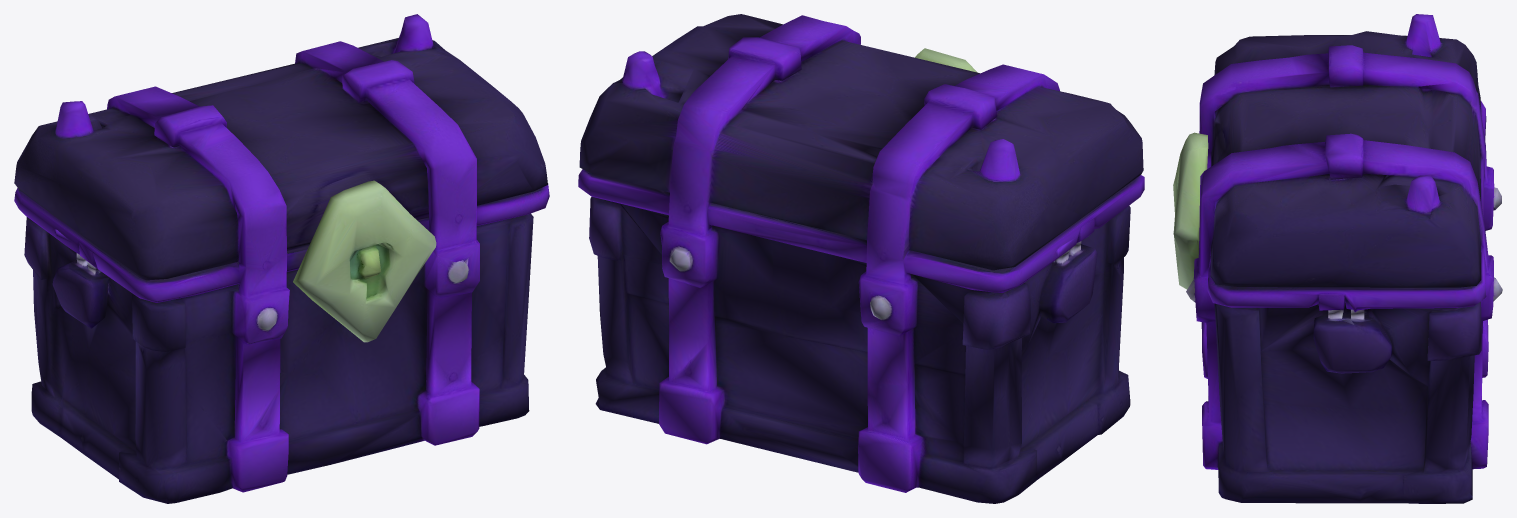
File: utility_cursed_chest_3000.glb
3 renders of one model, left to right at view 1: azimuth 30°, elevation 25°; view 2: azimuth 150°, elevation 25°; view 3: azimuth 270°, elevation 25°, orthographic. The views are drawn at different scales.
Visible parts, largest first — view 1: tripo_node_652b4107-b4f2-4c7e-8798-b146d227dd98; view 2: tripo_node_652b4107-b4f2-4c7e-8798-b146d227dd98; view 3: tripo_node_652b4107-b4f2-4c7e-8798-b146d227dd98.
Boxes of the visible parts, box(x1,y1,x2,y2) form: tripo_node_652b4107-b4f2-4c7e-8798-b146d227dd98: box(14, 14, 549, 503); tripo_node_652b4107-b4f2-4c7e-8798-b146d227dd98: box(578, 14, 1144, 503); tripo_node_652b4107-b4f2-4c7e-8798-b146d227dd98: box(1173, 14, 1502, 503).
Size of the model in its own units: 0.9796 by 0.7244 by 0.6817.
1 material, 1 textured.
